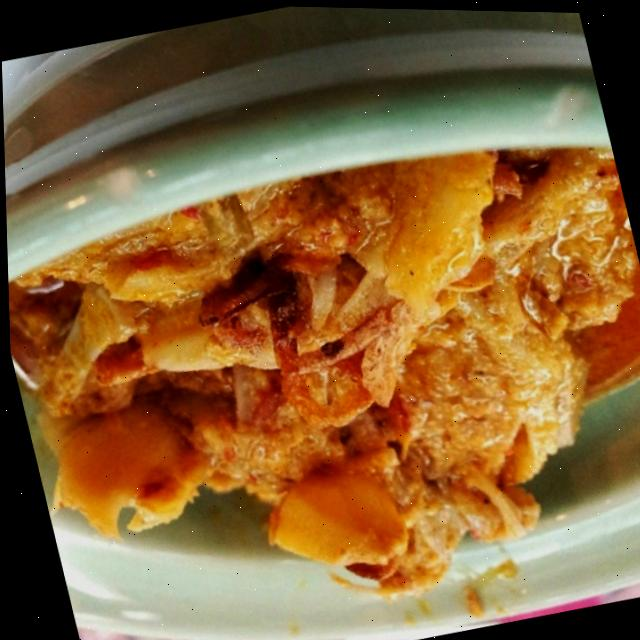熟制海鲜: (1, 37, 640, 640)
